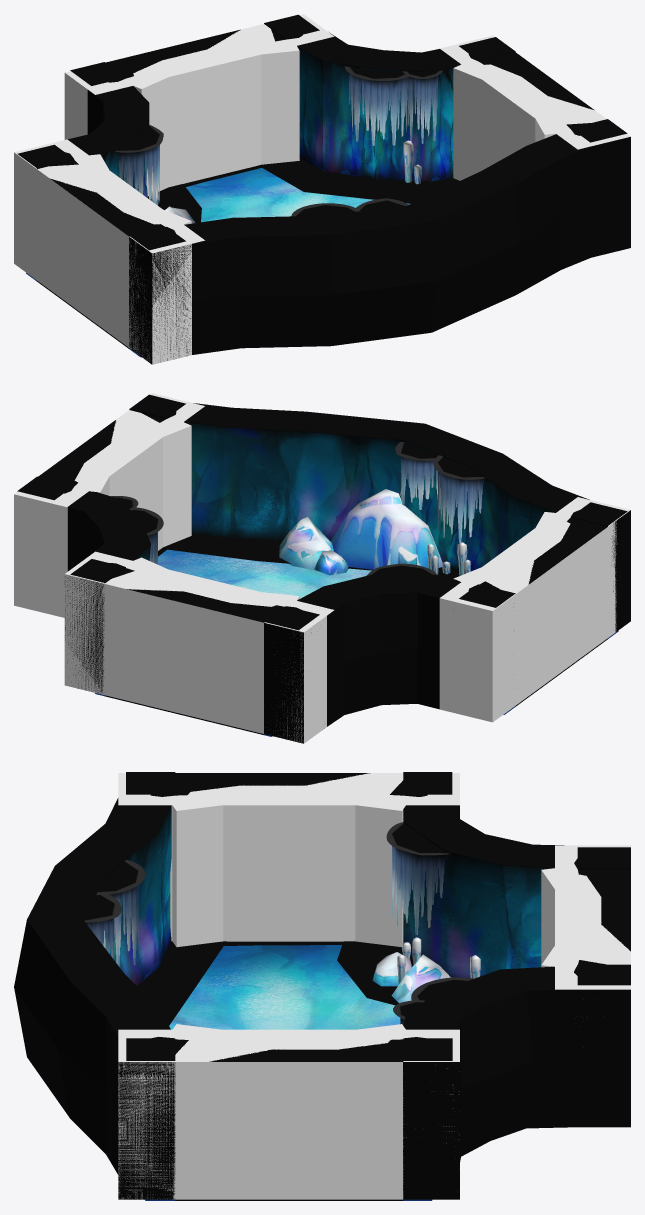
Rendered from Dungeon_072_RoadT_002.fbx.
3 renders of one model, top to bottom at view 1: azimuth 30°, elevation 25°; view 2: azimuth 150°, elevation 25°; view 3: azimuth 270°, elevation 25°, orthographic. The views are drawn at different scales.
Visible parts, largest first — view 1: Dun_072_RoadT_002_wall, DoorWay_NavMask (3) (×3), DoorWay_NavMask (1), Dun_072_Door_002 (×3), Dun_072_OB_Icicle, DoorWay_NavMask (4) (×3), DoorWay_NavMask (2) (×2), Dun_072_RoadT_002_ground, Dun_072_RoadT_002_shadow, Dun_072_OB_Ice_crystals01; view 2: Dun_072_RoadT_002_wall, DoorWay_NavMask (3) (×3), DoorWay_NavMask (1) (×3), Dun_072_Door_002 (×3), Dun_072_OB_Stone02, Dun_072_OB_Icicle, DoorWay_NavMask (2) (×3), Dun_072_RoadT_002_ground, Dun_072_RoadT_002_shadow, DoorWay_NavMask (4) (×2), Dun_072_OB_Ice_crystals01, Dun_072_OB_Stone01; view 3: Dun_072_RoadT_002_wall, DoorWay_NavMask (3) (×3), DoorWay_NavMask (1) (×2), Dun_072_Door_002 (×3), Dun_072_RoadT_002_ground, DoorWay_NavMask (4) (×3), Dun_072_OB_Icicle, DoorWay_NavMask (2) (×2), Dun_072_RoadT_002_shadow, Dun_072_OB_Stone02, Dun_072_OB_Stone01, Dun_072_OB_Ice_crystals01.
Boxes of the visible parts, <box> form: Dun_072_RoadT_002_wall: <box>67,32,630,364</box>; DoorWay_NavMask (3) (×3): <box>14,14,630,364</box>; DoorWay_NavMask (1): <box>36,165,171,347</box>; Dun_072_Door_002 (×3): <box>17,14,627,348</box>; Dun_072_OB_Icicle: <box>115,66,442,216</box>; DoorWay_NavMask (4) (×3): <box>121,59,518,229</box>; DoorWay_NavMask (2) (×2): <box>73,38,299,182</box>; Dun_072_RoadT_002_ground: <box>26,168,410,357</box>; Dun_072_RoadT_002_shadow: <box>148,158,459,222</box>; Dun_072_OB_Ice_crystals01: <box>149,140,421,205</box>; Dun_072_RoadT_002_wall: <box>64,403,630,743</box>; DoorWay_NavMask (3) (×3): <box>14,393,630,743</box>; DoorWay_NavMask (1) (×3): <box>76,410,608,733</box>; Dun_072_Door_002 (×3): <box>17,394,627,734</box>; Dun_072_OB_Stone02: <box>279,489,442,569</box>; Dun_072_OB_Icicle: <box>111,442,484,575</box>; DoorWay_NavMask (2) (×3): <box>122,417,517,586</box>; Dun_072_RoadT_002_ground: <box>95,549,618,736</box>; Dun_072_RoadT_002_shadow: <box>161,533,459,578</box>; DoorWay_NavMask (4) (×2): <box>72,464,299,606</box>; Dun_072_OB_Ice_crystals01: <box>427,542,470,575</box>; Dun_072_OB_Stone01: <box>314,550,348,575</box>; Dun_072_RoadT_002_wall: <box>14,798,630,1199</box>; DoorWay_NavMask (3) (×3): <box>118,773,630,1199</box>; DoorWay_NavMask (1) (×2): <box>173,773,403,1199</box>; Dun_072_Door_002 (×3): <box>126,772,630,1200</box>; Dun_072_RoadT_002_ground: <box>145,945,432,1200</box>; DoorWay_NavMask (4) (×3): <box>167,787,581,1048</box>; Dun_072_OB_Icicle: <box>82,822,473,1025</box>; DoorWay_NavMask (2) (×2): <box>168,786,411,1048</box>; Dun_072_RoadT_002_shadow: <box>137,941,413,1025</box>; Dun_072_OB_Stone02: <box>391,954,450,1003</box>; Dun_072_OB_Stone01: <box>372,952,412,986</box>; Dun_072_OB_Ice_crystals01: <box>397,937,480,983</box>.
Size of what is drawn, in the model's own units: 9 by 2.04 by 8.13.
